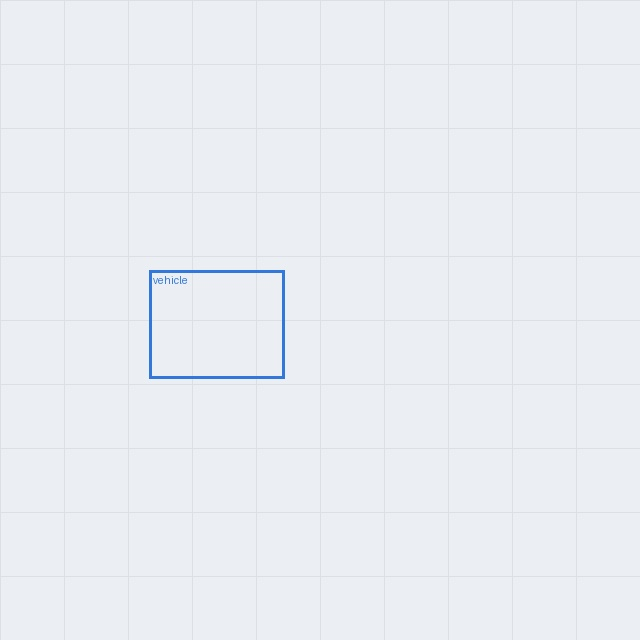vehicle: (149, 270, 284, 378)
